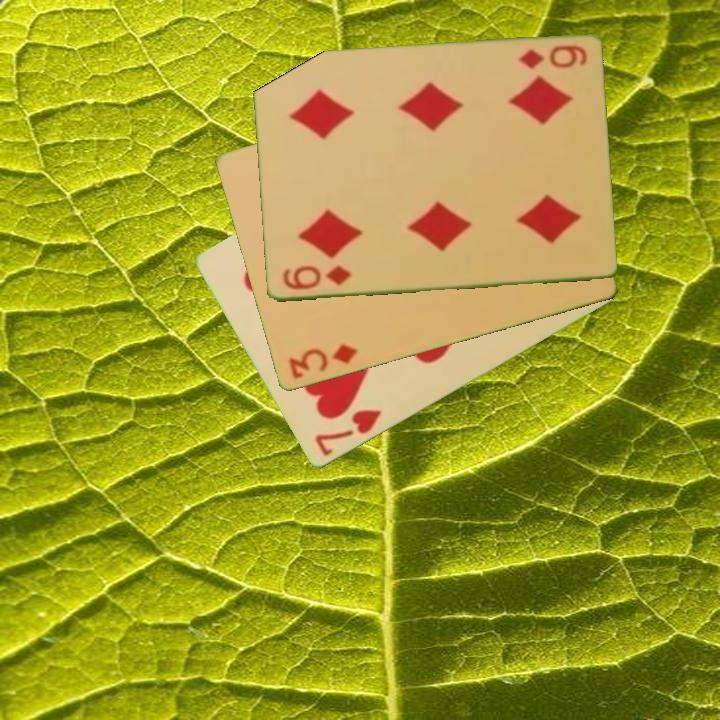3d: (285, 341, 361, 382)
6d: (279, 262, 354, 294), (515, 42, 590, 73)
7h: (311, 406, 384, 460)
